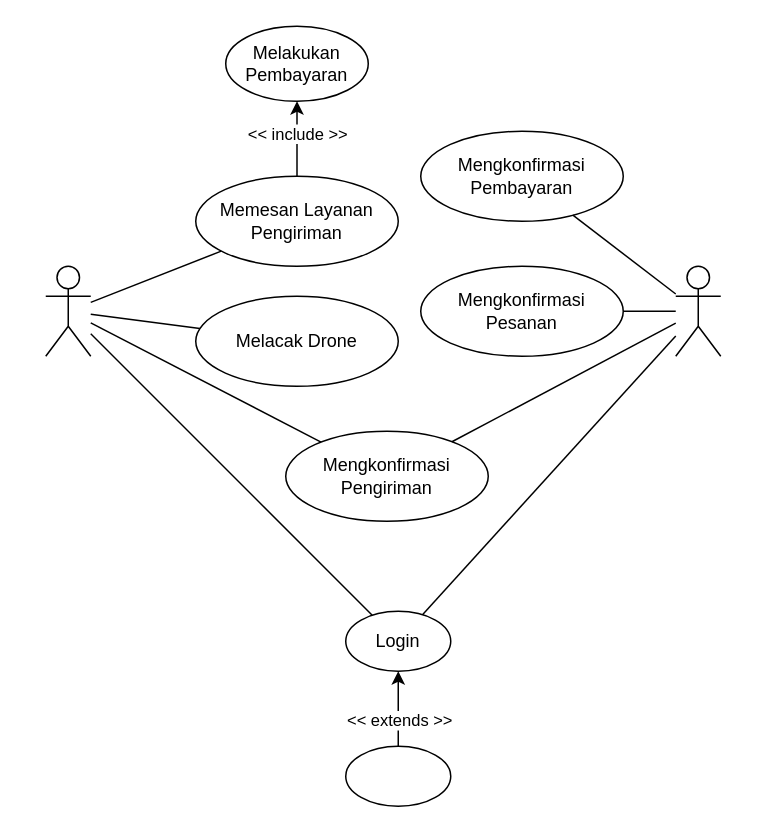
Some shapes in this 759 by 833 pixel diagram are drawn without their labels. The shapes that lost their labels are listed below. From the top down, each one's centre as x and y in pixels, then its label:
the point at 67,310: Pelanggan
the point at 697,310: Operator
the point at 397,775: Register
